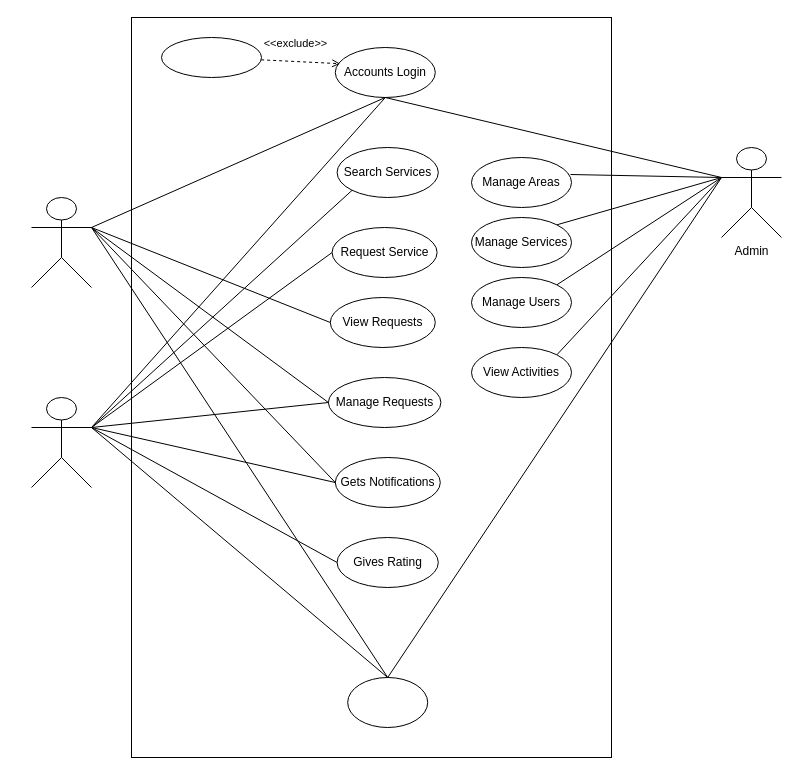
Some shapes in this 799 by 775 pixel diagram are drawn without their labels. The shapes that lost their labels are listed below. From the top down, each one's centre as x and y in pixels, then its label:
At point (211, 57): "Unauthenticated".
At point (61, 242): "Service Provider".
At point (61, 442): "Service User".
At point (387, 702): "Logout".
